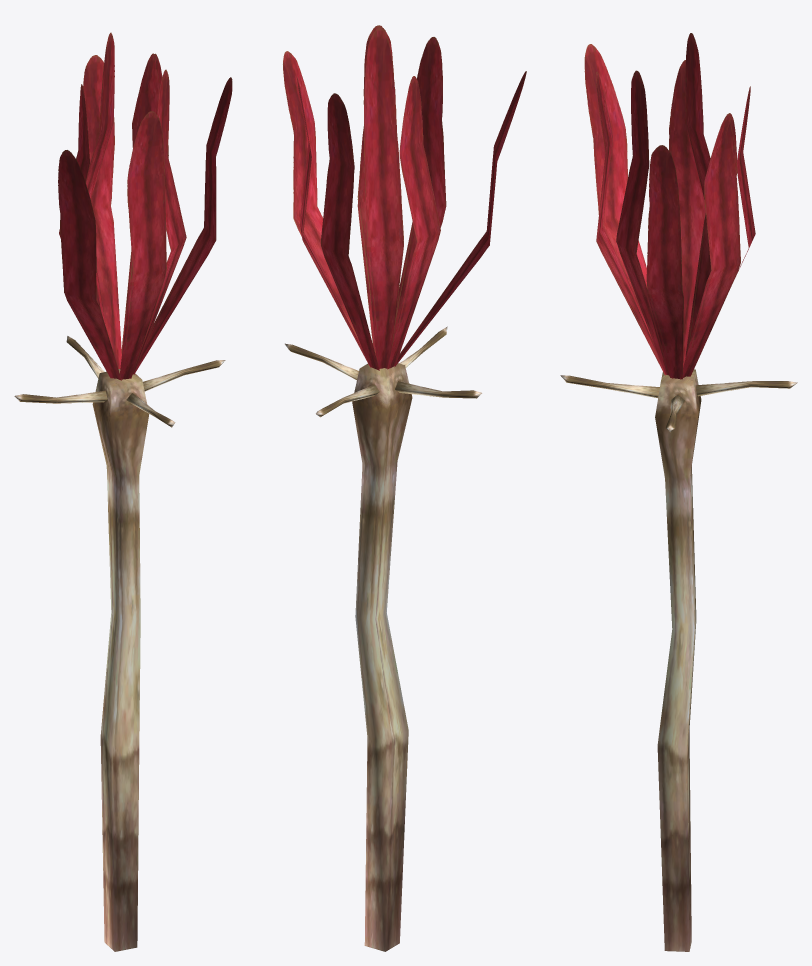
File: flow_tatt_funnel_med_l0.fbx
3 views of the same model, side by side, from view 1: azimuth 30°, elevation 25°; view 2: azimuth 150°, elevation 25°; view 3: azimuth 270°, elevation 25° (orthographic).
Visible parts, largest first — view 1: mesh_node; view 2: mesh_node; view 3: mesh_node.
Part boxes in pixels (x1=…): mesh_node: x1=14, y1=32, x2=232, y2=951; mesh_node: x1=283, y1=25, x2=526, y2=951; mesh_node: x1=560, y1=33, x2=797, y2=951.
Size of the model in its own units: 0.29 by 1.16 by 0.2715.
